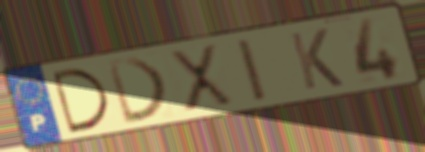4: (351, 15, 406, 83)
D: (104, 55, 172, 127), (47, 65, 113, 136)
I: (234, 36, 272, 105)
K: (285, 26, 346, 92)
X: (166, 42, 238, 114)
